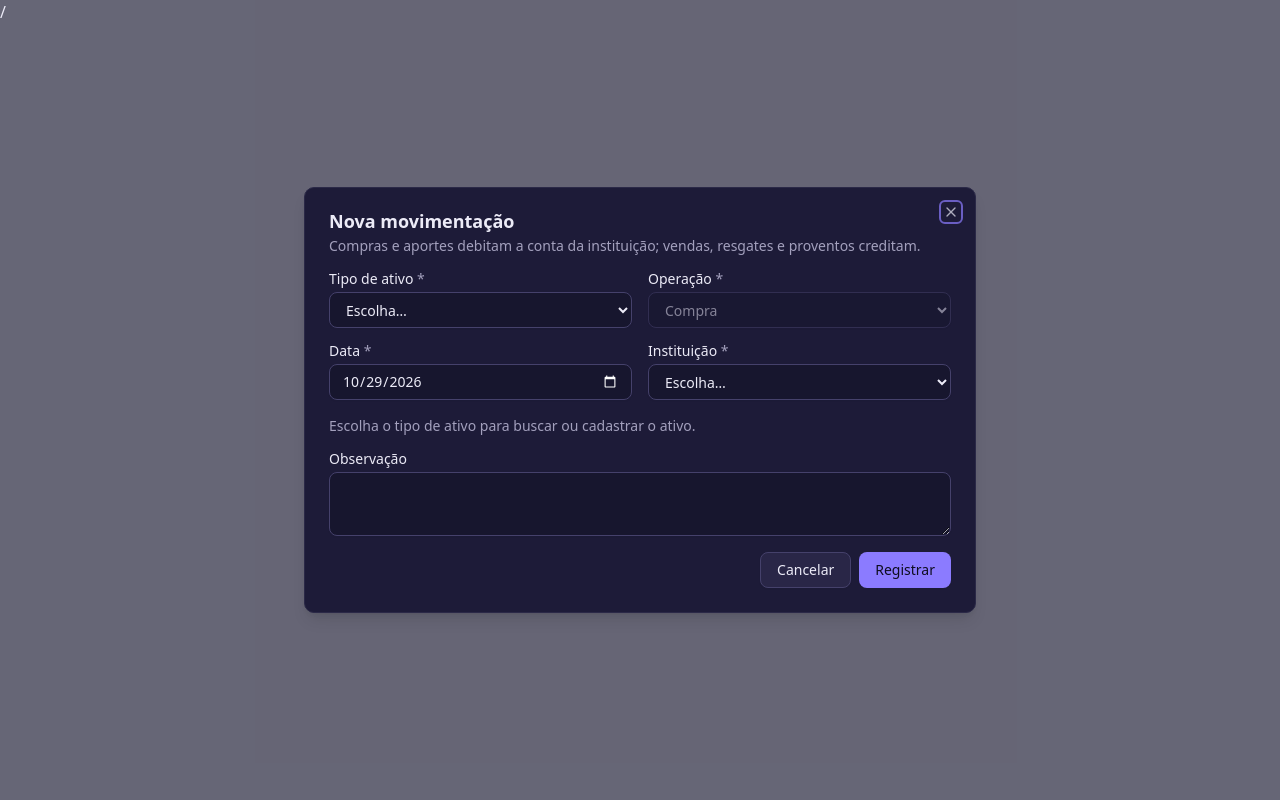
DialogoTransacao (formulário único) › tipo diferente da lista oficial: avisa e troca para o tipo certo
The width and height of the screenshot is (1280, 800).
Select "Ação (Brasil)" in the dropdown labelled "Tipo de ativo *" at (480, 310), box top-left (329, 292), bottom-right (632, 328)
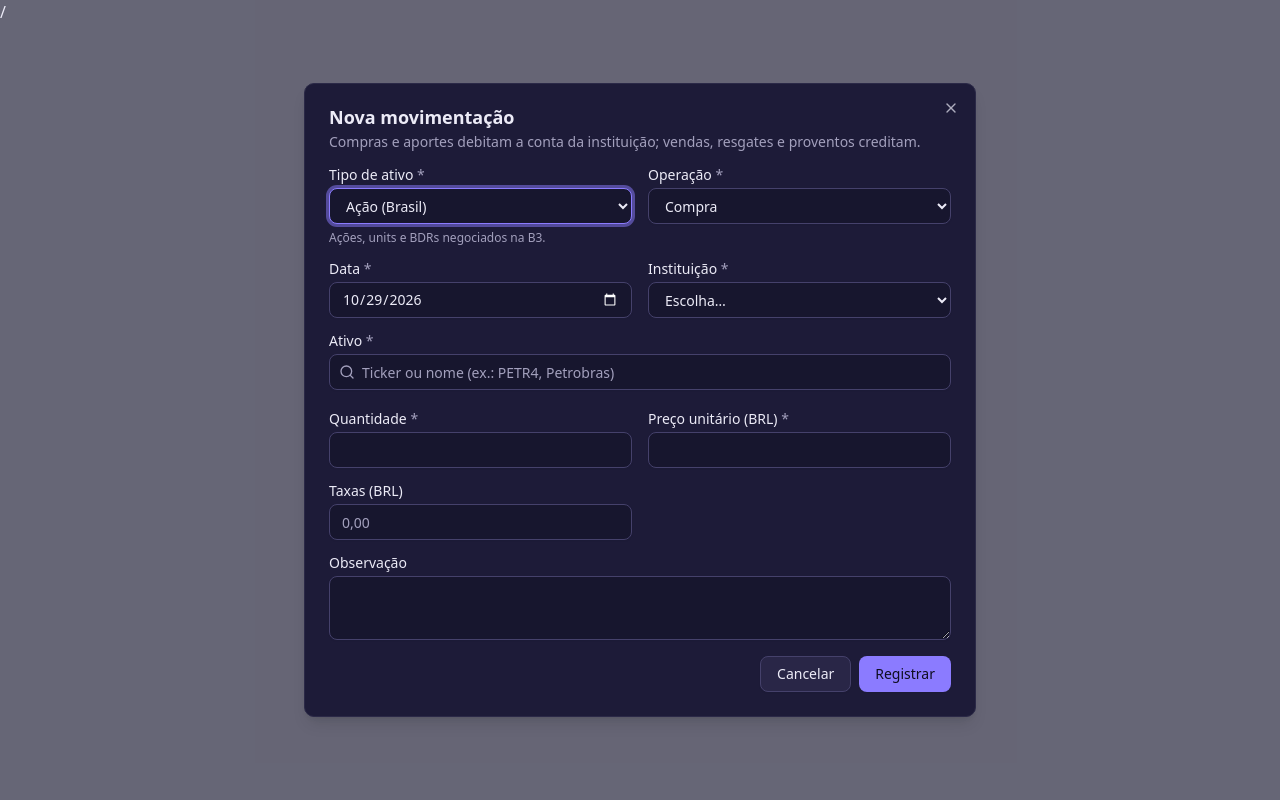
Type "BOVA11" into the dropdown labelled "Ativo *" at (640, 372), box top-left (329, 354), bottom-right (951, 390)
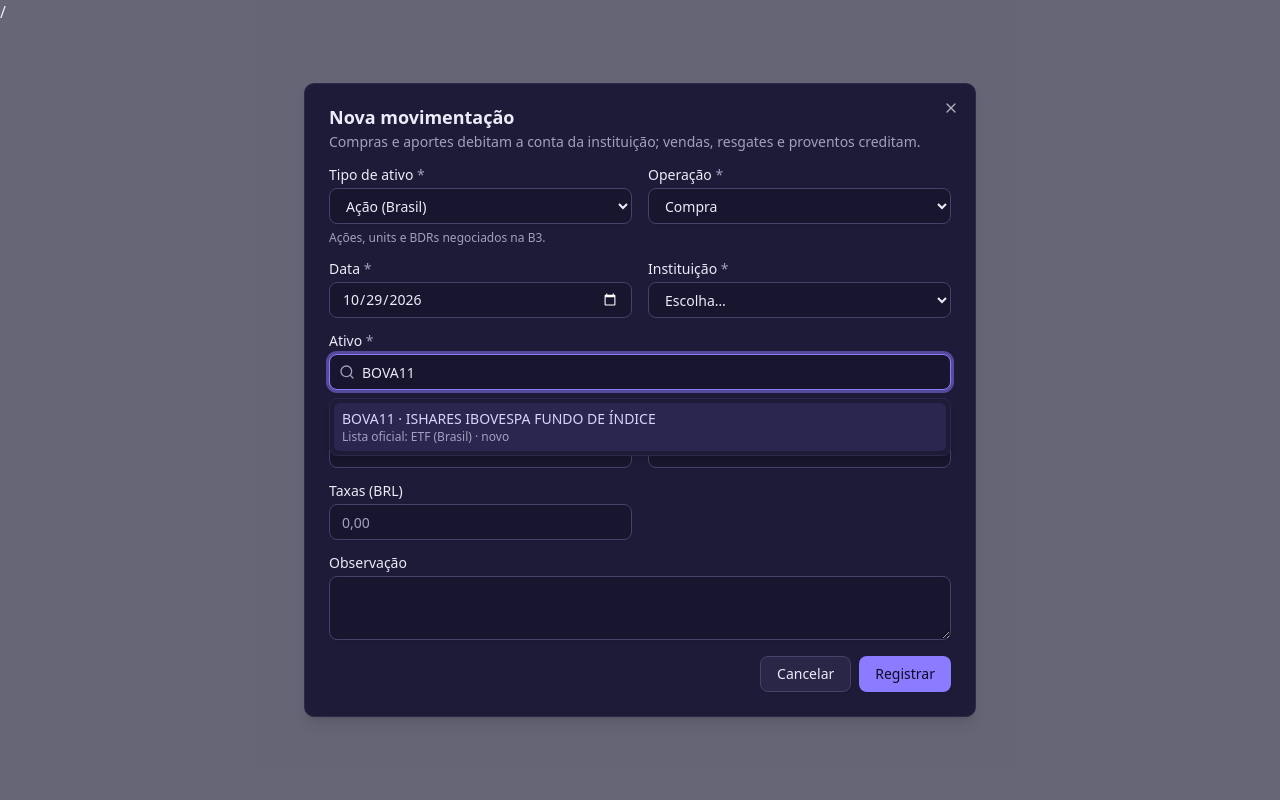
Check: the text "Lista oficial: ETF (Brasil) · novo" is shown, box top-left (342, 428), bottom-right (509, 445)
Click the option "BOVA11" at (640, 427), box top-left (334, 403), bottom-right (946, 451)
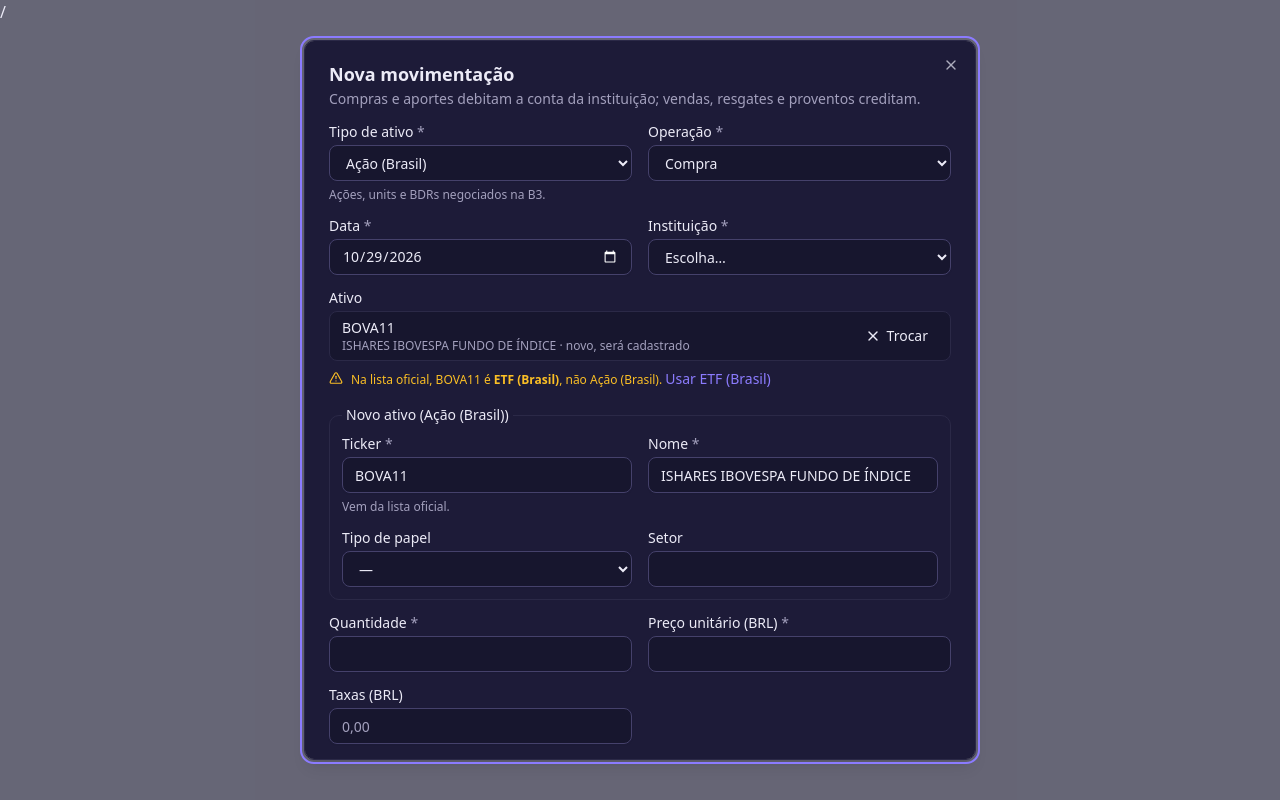
Check: the text "Na lista oficial, BOVA11 é" is shown, box top-left (351, 369), bottom-right (771, 389)
Click the button "Usar ETF (Brasil)" at (718, 379), box top-left (665, 369), bottom-right (771, 389)
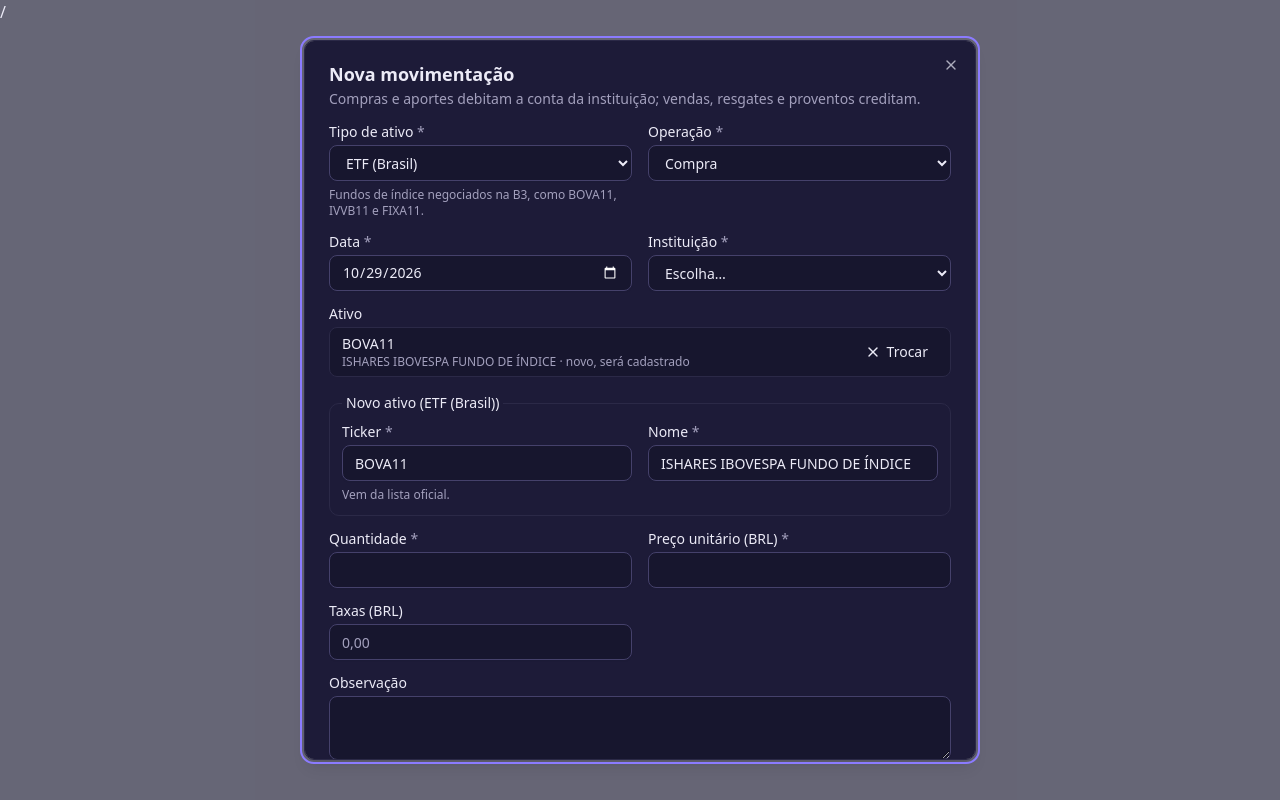
Check: the field labelled "Ticker *" holds "BOVA11", box top-left (342, 445), bottom-right (632, 481)
Check: the text "Na lista oficial" is gone
